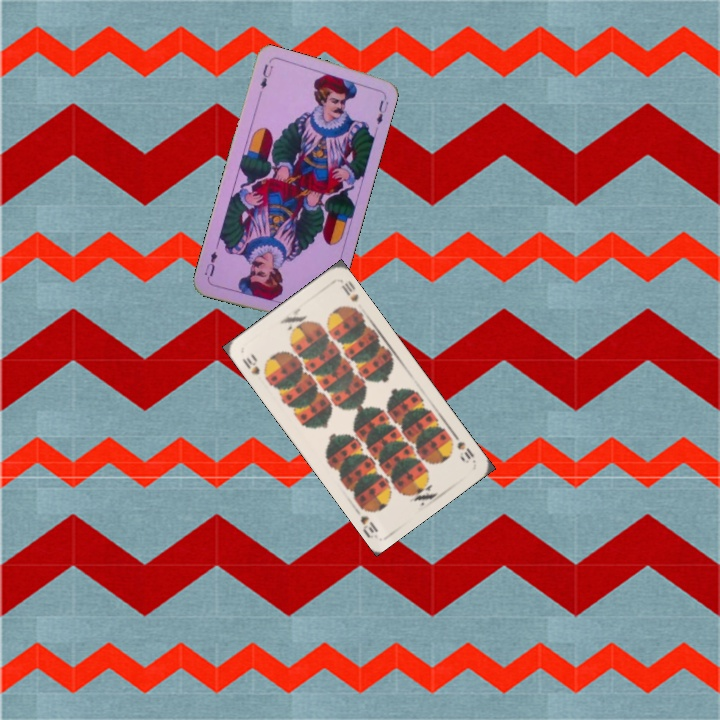EU: (256, 60, 276, 92)
S10: (238, 350, 271, 382), (453, 437, 476, 466)
